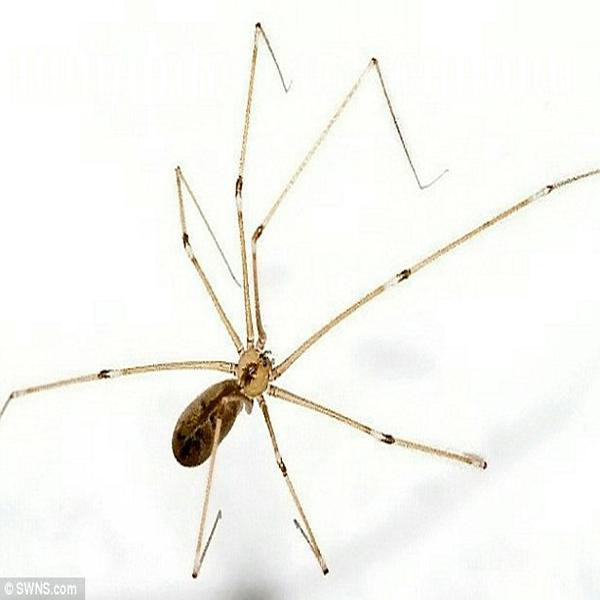Daddy Long Legs Spider: (12, 20, 600, 567)
